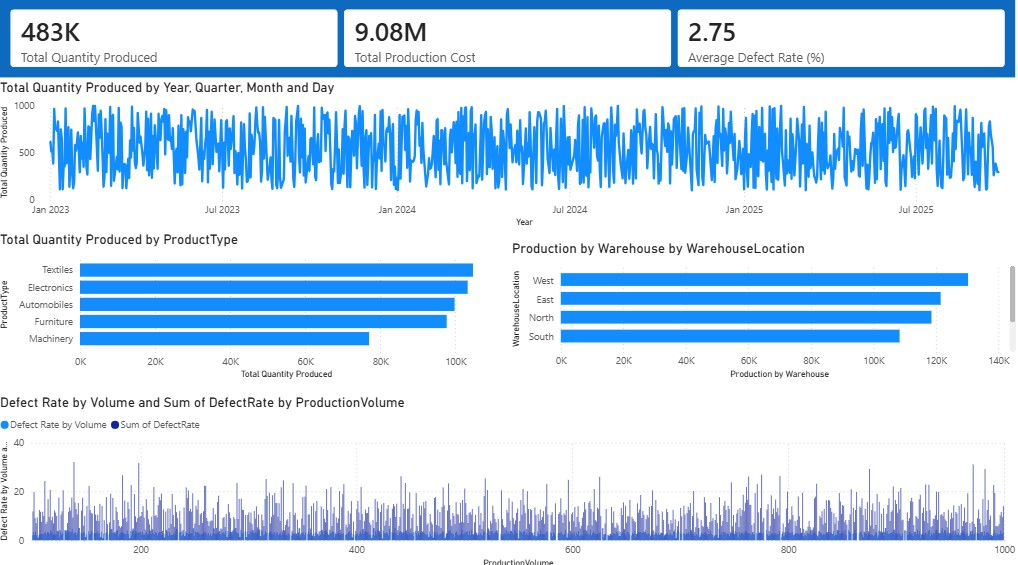

The page's visual inventory and layout, read from the dashboard file:
{"tool":"powerbi","page":{"name":"Page 1","canvas":[1280,720],"ordinal":0},"visuals":[{"type":"cardVisual","fields":{"Data":["manufacturing_dataset.Total Quantity Produced","manufacturing_dataset.Total Production Cost","manufacturing_defect_dataset.Average Defect Rate (%)"]},"box":[0,0,1280,108.3],"z":0},{"type":"lineChart","fields":{"Y":["manufacturing_dataset.Total Quantity Produced"],"Category":["manufacturing_dataset.ProductionDate.Variation.Date Hierarchy.Year","manufacturing_dataset.ProductionDate.Variation.Date Hierarchy.Quarter","manufacturing_dataset.ProductionDate.Variation.Date Hierarchy.Month","manufacturing_dataset.ProductionDate.Variation.Date Hierarchy.Day"]},"box":[0,105,1280,190],"z":1},{"type":"barChart","fields":{"Category":["manufacturing_dataset.ProductType"],"Y":["manufacturing_dataset.Total Quantity Produced"]},"box":[0,295,640,190],"z":4},{"type":"barChart","fields":{"Category":["manufacturing_dataset.WarehouseLocation"],"Y":["manufacturing_dataset.Production by Warehouse"]},"box":[640,306.7,640,178.3],"z":5},{"type":"clusteredColumnChart","fields":{"Y":["manufacturing_defect_dataset.Defect Rate by Volume","Sum(manufacturing_defect_dataset.DefectRate)"],"Category":["manufacturing_defect_dataset.ProductionVolume"]},"box":[0,498.3,1280,221.7],"z":6}]}

Visuals, with their boxes in screenshot pixels (x1, y1, x2, y2), scaled from the page's 1280x720 canvas onto the 1018x565 screenshot:
cardVisual - manufacturing_dataset.Total Quantity Produced x manufacturing_dataset.Total Production Cost: [0,0,1017,85]
lineChart - manufacturing_dataset.Total Quantity Produced x manufacturing_dataset.ProductionDate.Variation.Date Hierarchy.Year: [0,82,1017,231]
barChart - manufacturing_dataset.ProductType x manufacturing_dataset.Total Quantity Produced: [0,231,509,381]
barChart - manufacturing_dataset.WarehouseLocation x manufacturing_dataset.Production by Warehouse: [509,241,1017,381]
clusteredColumnChart - manufacturing_defect_dataset.Defect Rate by Volume x Sum(manufacturing_defect_dataset.DefectRate): [0,391,1017,564]
